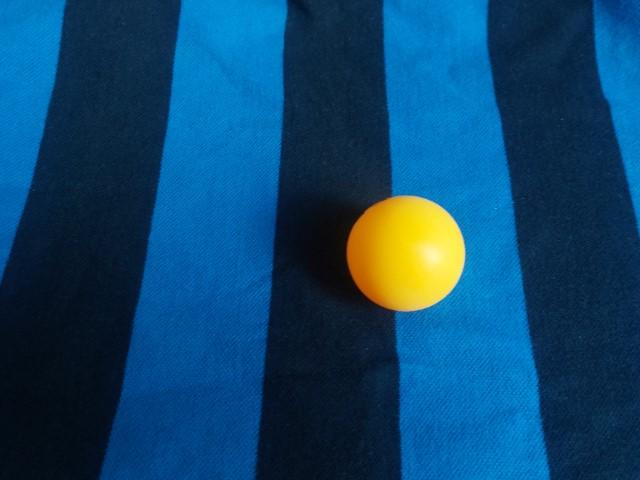oball: (167, 161, 303, 293)
